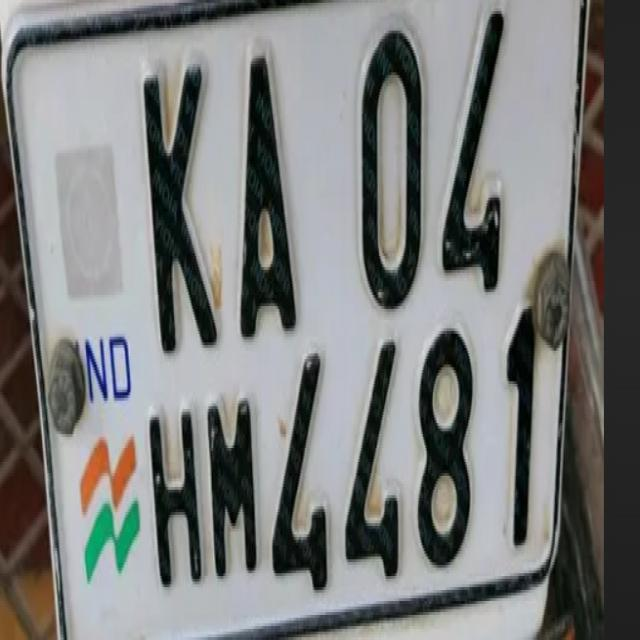0: (350, 15, 438, 337)
1: (485, 291, 543, 579)
4: (431, 6, 518, 306), (266, 314, 334, 612), (339, 329, 407, 590)
8: (410, 314, 477, 582)
A: (226, 26, 303, 358)
H: (145, 395, 208, 612)
K: (135, 54, 225, 385)
M: (203, 373, 262, 603)
